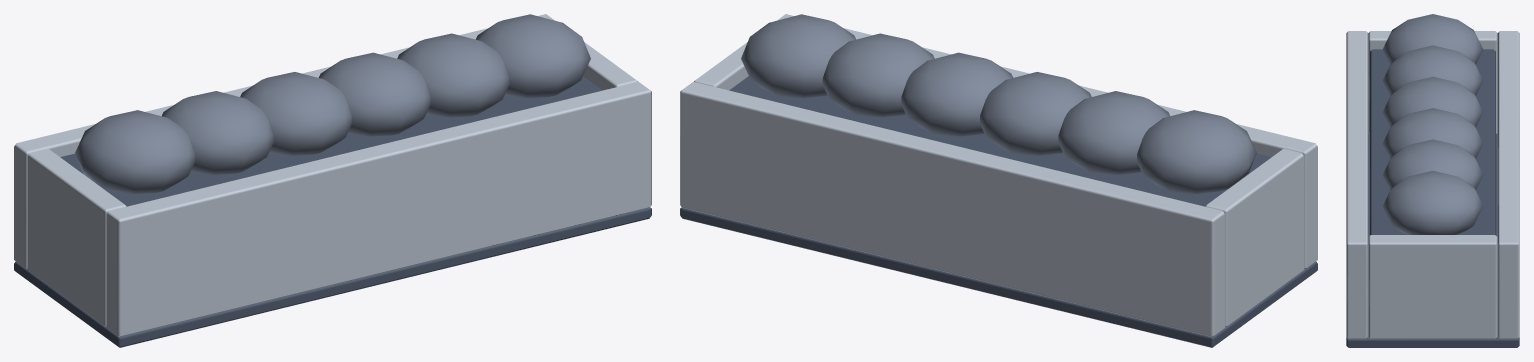
The model's file is garden-planter-trough-lite.glb.
The picture shows the model from 3 angles, left to right: view 1: azimuth 30°, elevation 25°; view 2: azimuth 150°, elevation 25°; view 3: azimuth 270°, elevation 25°; orthographic projection. The views are drawn at different scales.
Visible parts, largest first — view 1: garden-planter-trough; view 2: garden-planter-trough; view 3: garden-planter-trough.
Boxes of the visible parts, bbox=[...] form: garden-planter-trough: bbox=[14, 14, 651, 347]; garden-planter-trough: bbox=[680, 14, 1317, 347]; garden-planter-trough: bbox=[1346, 14, 1519, 347].
Size of the model in its own units: 1.6 by 0.5 by 0.55.
